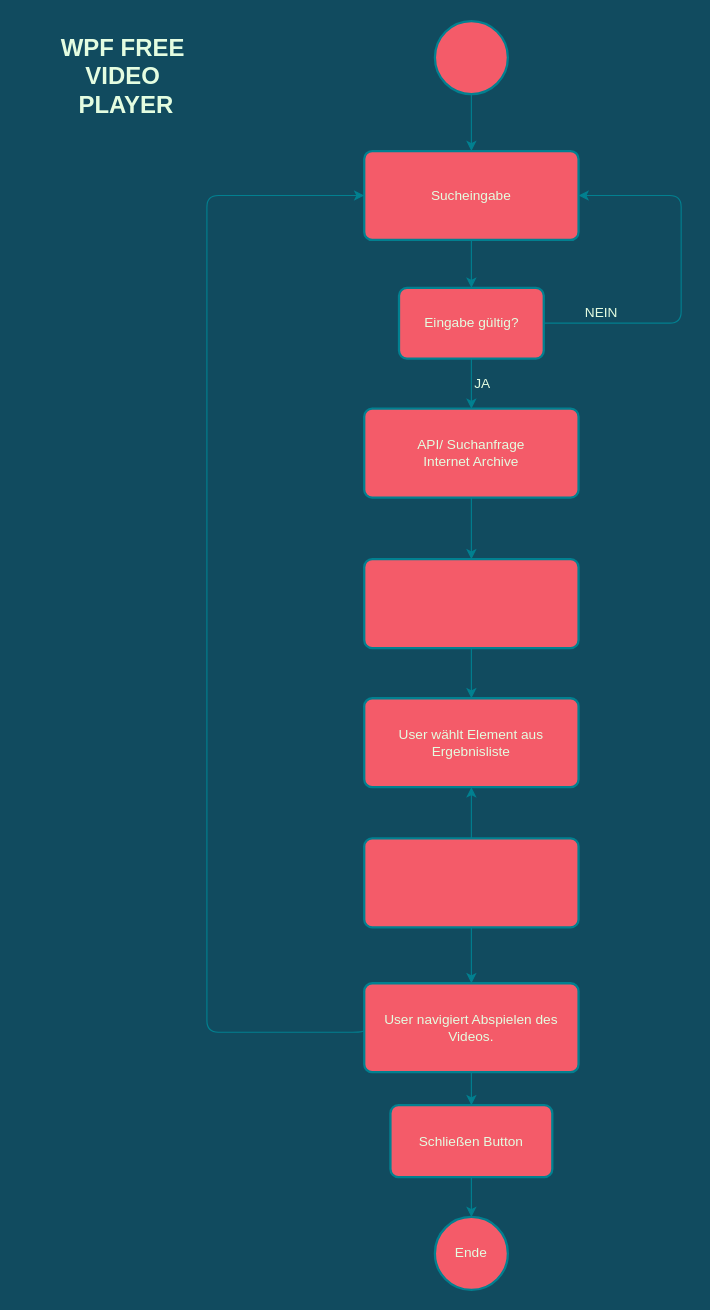
This 710x1310 diagram has some shape labels left out. The shapes that lost their labels are listed below. From the top down, each one's centre as x and y in pixels, then its label:
the point at 470,57: Start
the point at 471,603: Anfrageergebnis Formatierung für Anzeige in WPF
the point at 471,882: Info Anzeige und Vorschau Anzeige des ausgewählten Videos
